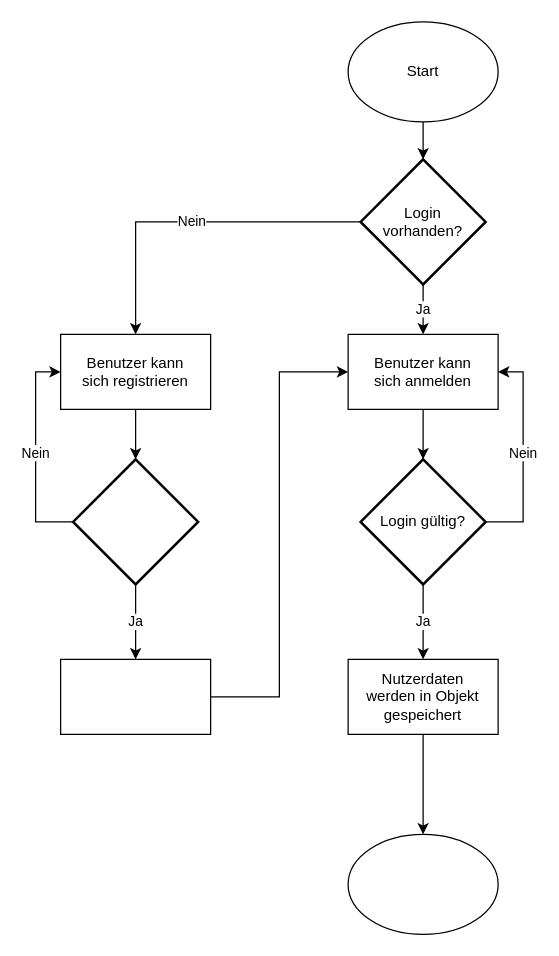
The diagram is 559 pixels wide and 956 high, and some of its shapes have lost their labels. Each missing label, with the centre of its shape:
Alle Daten eingegeben?: point 135,521
Ende (Übergang zu Hauptprogramm): point 422,883
Nutzer wird angelegt: point 135,696
